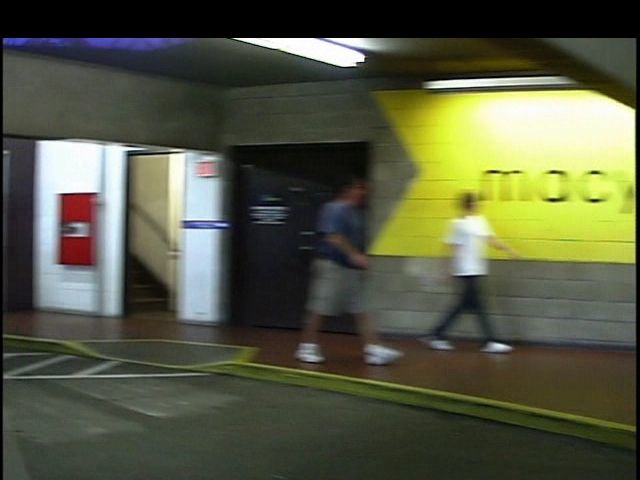person: (279, 169, 385, 369), (410, 182, 498, 361)
